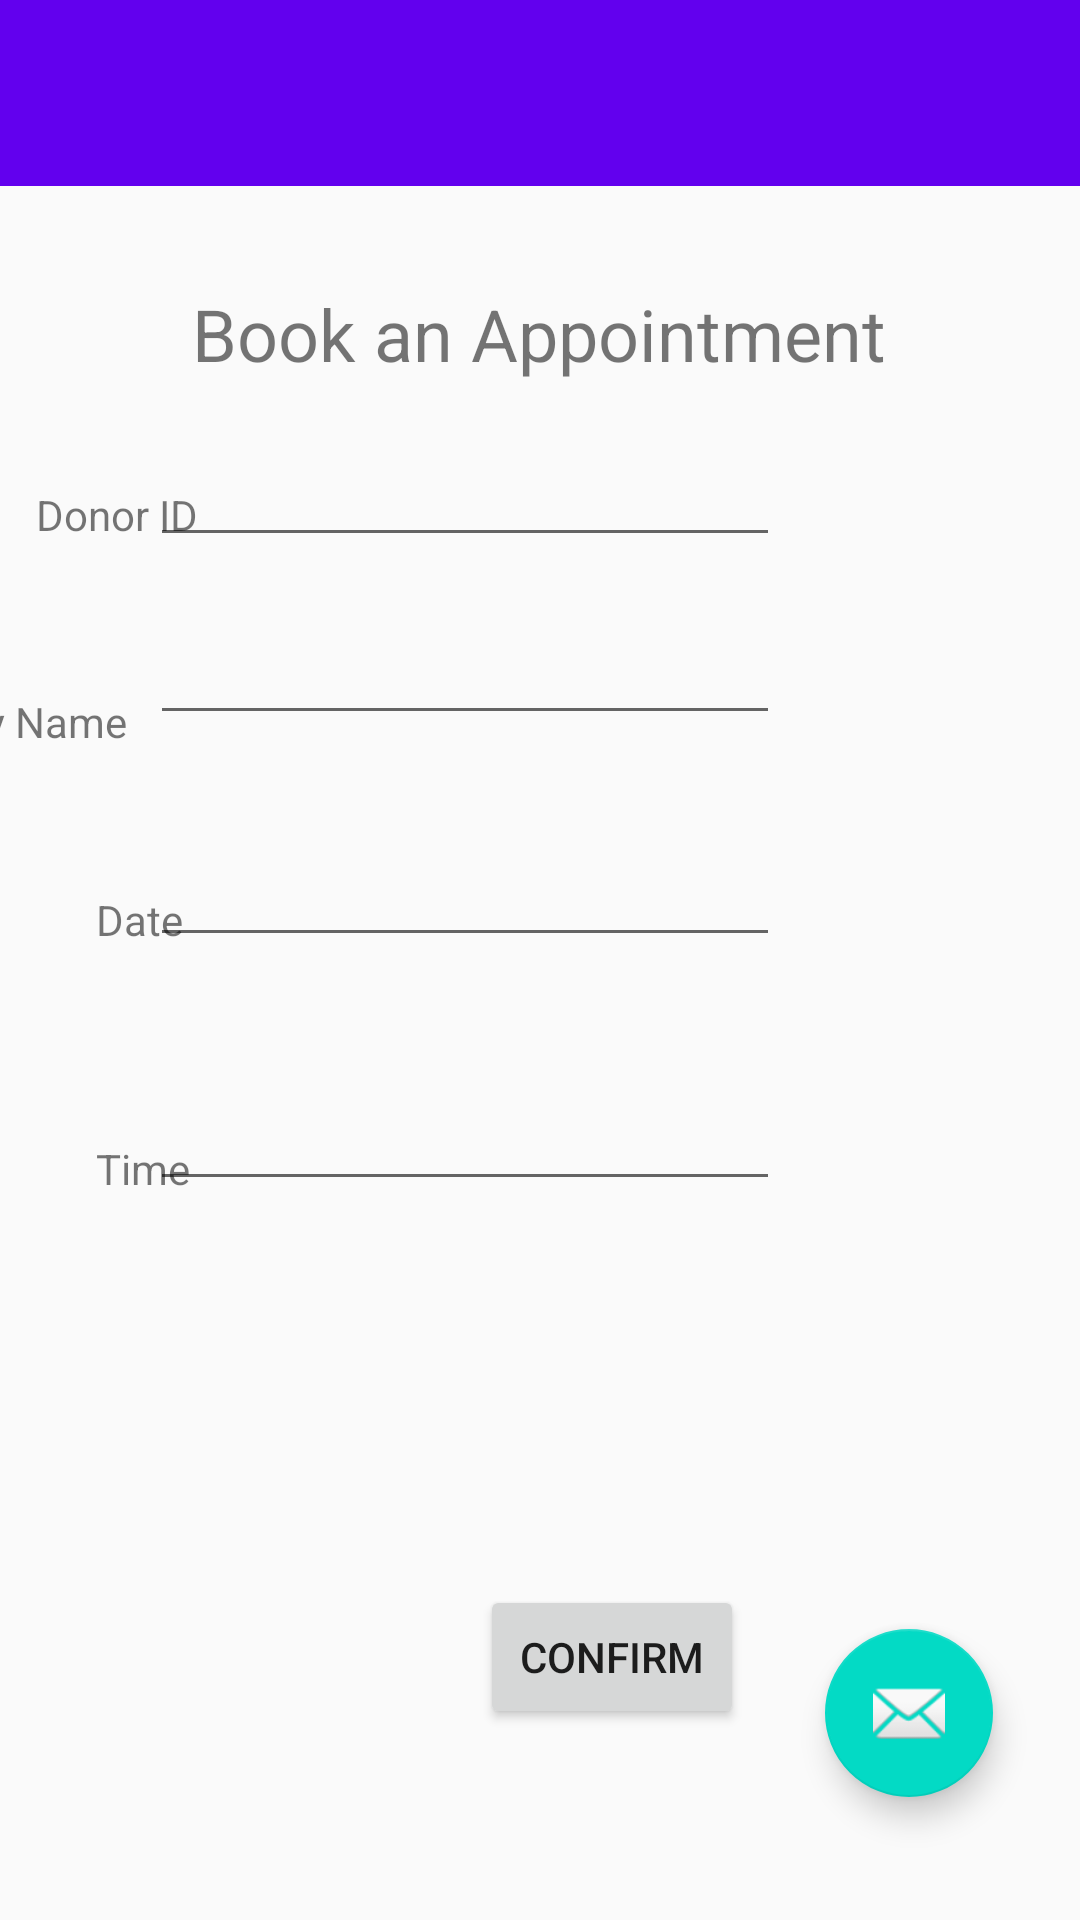

Screen size 1080px×1920px. Icon name, then its center in pixels as (x,y):
email: (909,1713)
